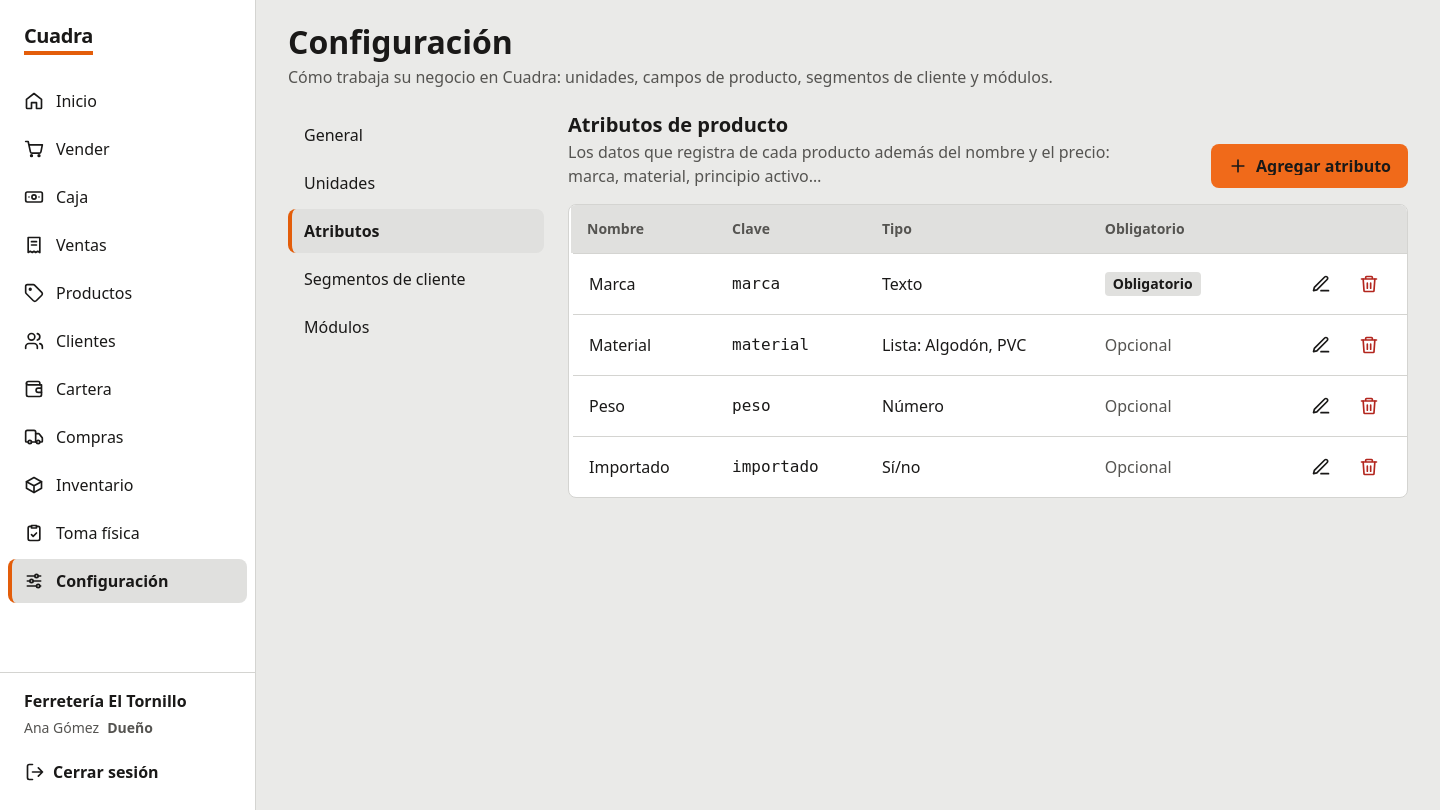
Test case: AttributesSettings › borra un atributo después de confirmar y lo quita de la lista
Click the button named "Borrar Peso" at (1369, 406), box [1347, 384, 1391, 428]
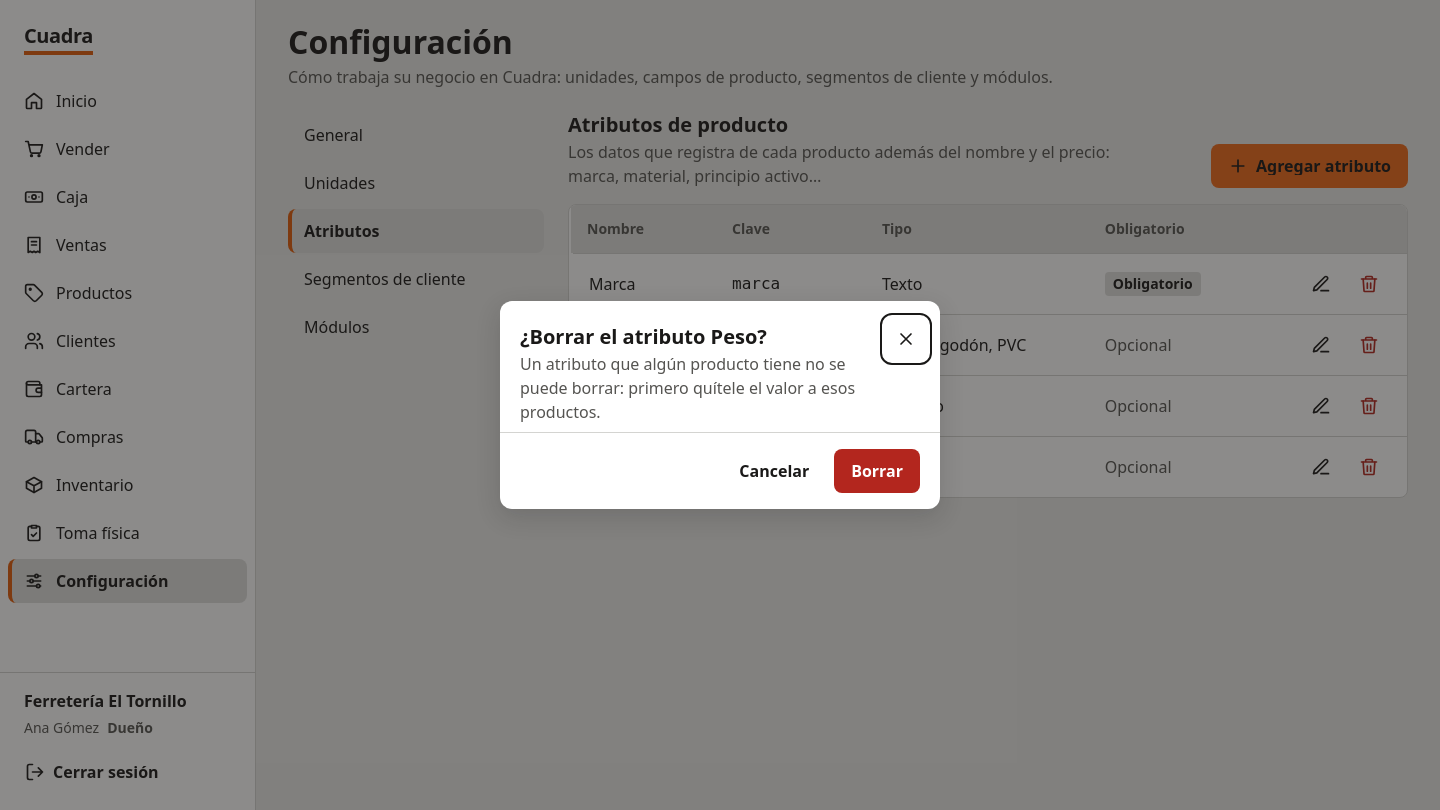
Click the button "Borrar" at (877, 471), box [834, 449, 920, 493]
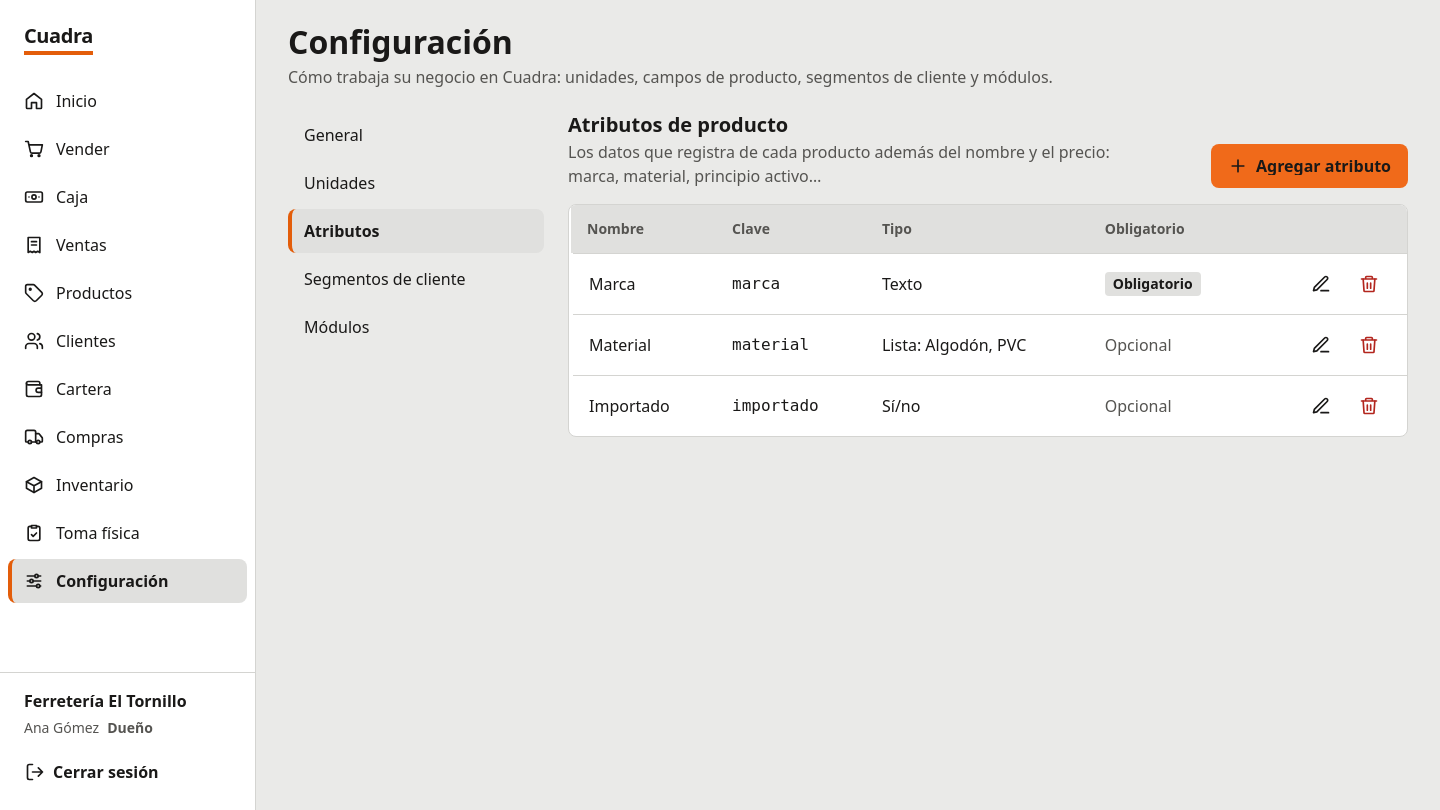
Result: the cell "Peso" is gone
